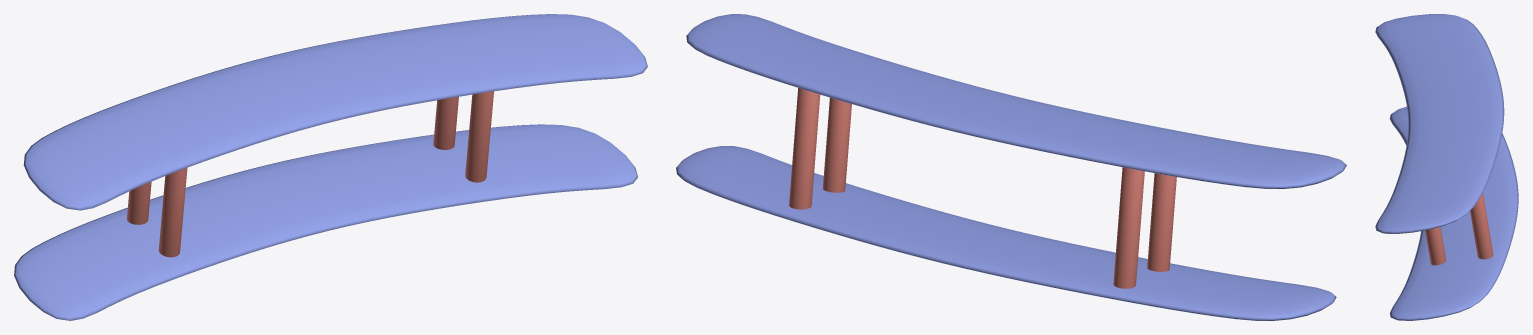
File: Wing.fbx
3 views of the same model, side by side, from view 1: azimuth 30°, elevation 25°; view 2: azimuth 150°, elevation 25°; view 3: azimuth 270°, elevation 25° (orthographic). The views are drawn at different scales.
Visible parts, largest first — view 1: front_wings, supports; view 2: front_wings, supports; view 3: front_wings, supports.
Part boxes in pixels (x1,y1,x2,y2): front_wings: (14, 14, 647, 320); supports: (127, 91, 493, 257); front_wings: (676, 14, 1346, 320); supports: (789, 88, 1176, 288); front_wings: (1375, 14, 1518, 320); supports: (1425, 193, 1493, 265).
Size of the model in its own units: 2.13 by 0.4954 by 0.601.
